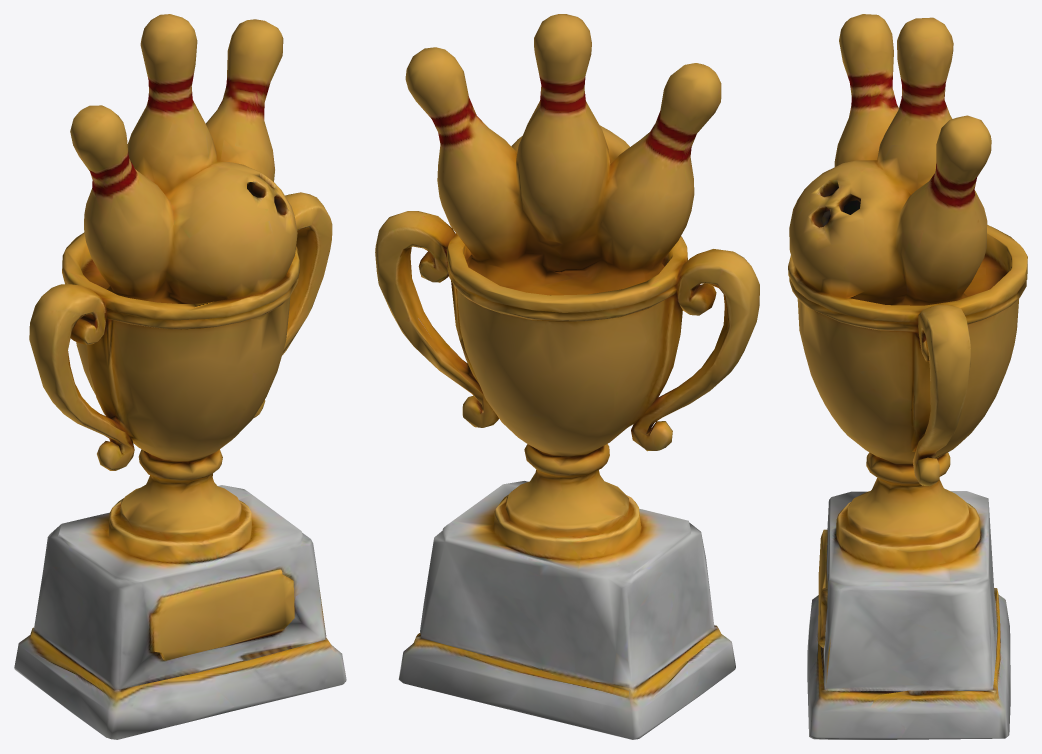
The model's file is trophy.glb.
3 renders of one model, left to right at view 1: azimuth 30°, elevation 25°; view 2: azimuth 150°, elevation 25°; view 3: azimuth 270°, elevation 25°, orthographic.
Visible parts, largest first — view 1: trophy-node; view 2: trophy-node; view 3: trophy-node.
Part boxes in pixels (x1,y1,x2,y2): trophy-node: (14,14,346,739); trophy-node: (375,14,759,739); trophy-node: (788,14,1027,739).
Size of the model in its own units: 0.5275 by 1 by 0.3285.
Materials: 1 (1 with a texture image).
